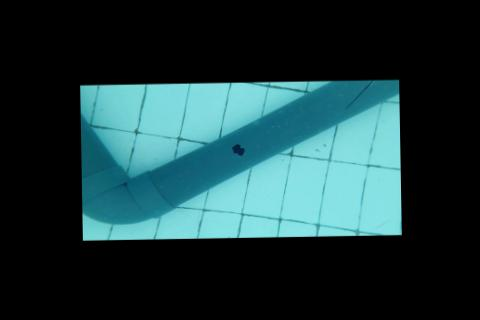kebocoran: (228, 143, 244, 157)
keretakan: (343, 79, 374, 110)
